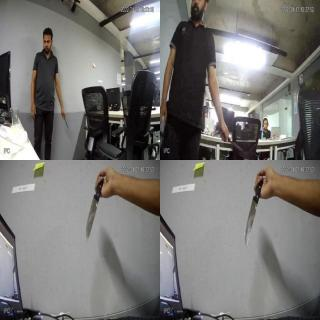knife: (243, 167, 263, 251), (86, 174, 104, 248), (230, 137, 243, 155), (63, 115, 69, 129)
